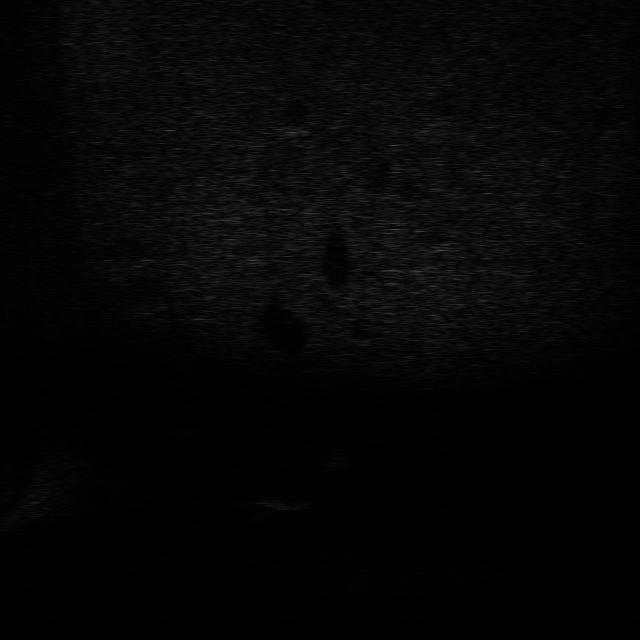ball: (314, 446, 358, 472)
square cage: (242, 491, 318, 516)
